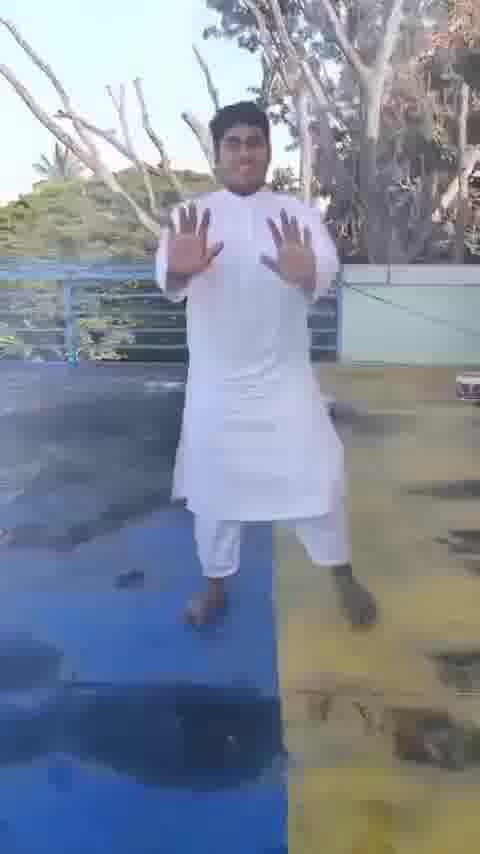duck: (148, 99, 403, 641)
